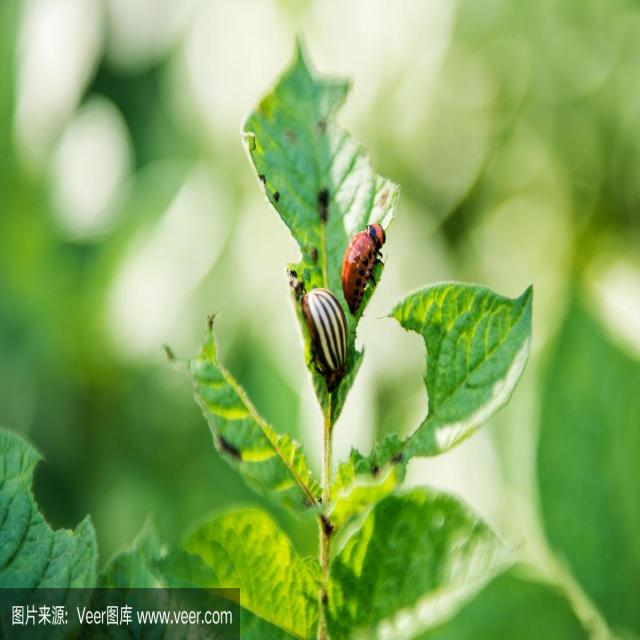ShuCaiHuaBanChong-Grown-: (295, 276, 352, 389)
ShuCaiHuaBanChong-Larva-: (342, 221, 390, 319)
